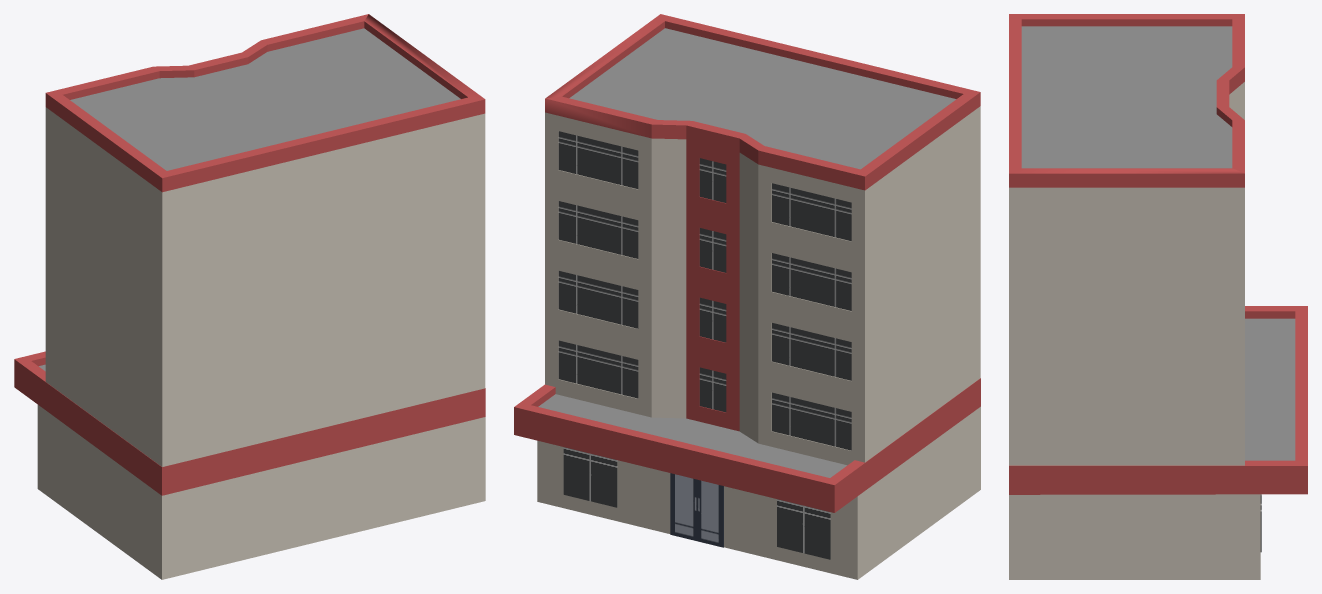
Rendered from SPW_Urban_Bldg_03.gltf.
The picture shows the model from 3 angles, left to right: view 1: azimuth 30°, elevation 25°; view 2: azimuth 150°, elevation 25°; view 3: azimuth 270°, elevation 25°; orthographic projection. The views are drawn at different scales.
Parts seen in each view (by area): view 1: SPW_Urban_Bldg_03; view 2: SPW_Urban_Bldg_03; view 3: SPW_Urban_Bldg_03.
Part boxes in pixels (<box>): SPW_Urban_Bldg_03: <box>14,14,485,579</box>; SPW_Urban_Bldg_03: <box>514,14,980,579</box>; SPW_Urban_Bldg_03: <box>1009,14,1307,579</box>.
Size of the model in its own units: 710 by 842 by 561.
1 material, 1 textured.
